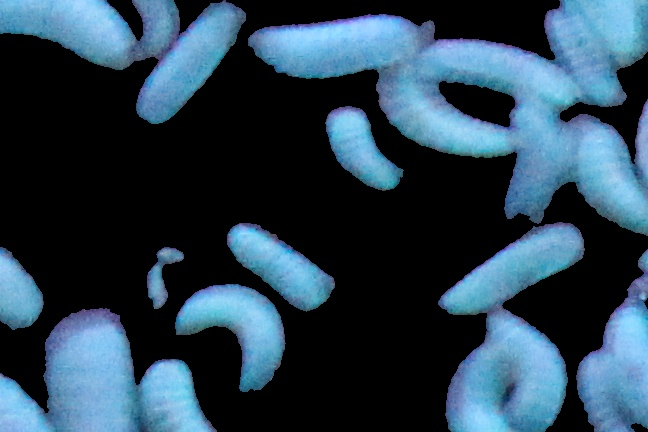larvae: (429, 224, 592, 320), (124, 1, 245, 129), (170, 281, 288, 395), (220, 220, 347, 317), (417, 35, 582, 108), (45, 307, 138, 432), (247, 14, 422, 80), (379, 83, 522, 158), (493, 308, 573, 432), (1, 1, 139, 71), (576, 116, 648, 247), (503, 98, 567, 228), (546, 11, 632, 106), (437, 330, 517, 432), (324, 104, 404, 195), (600, 291, 648, 423), (574, 338, 632, 432), (141, 359, 215, 432), (1, 247, 41, 338), (130, 1, 182, 62)
